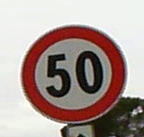limite 50: (19, 23, 126, 122)
